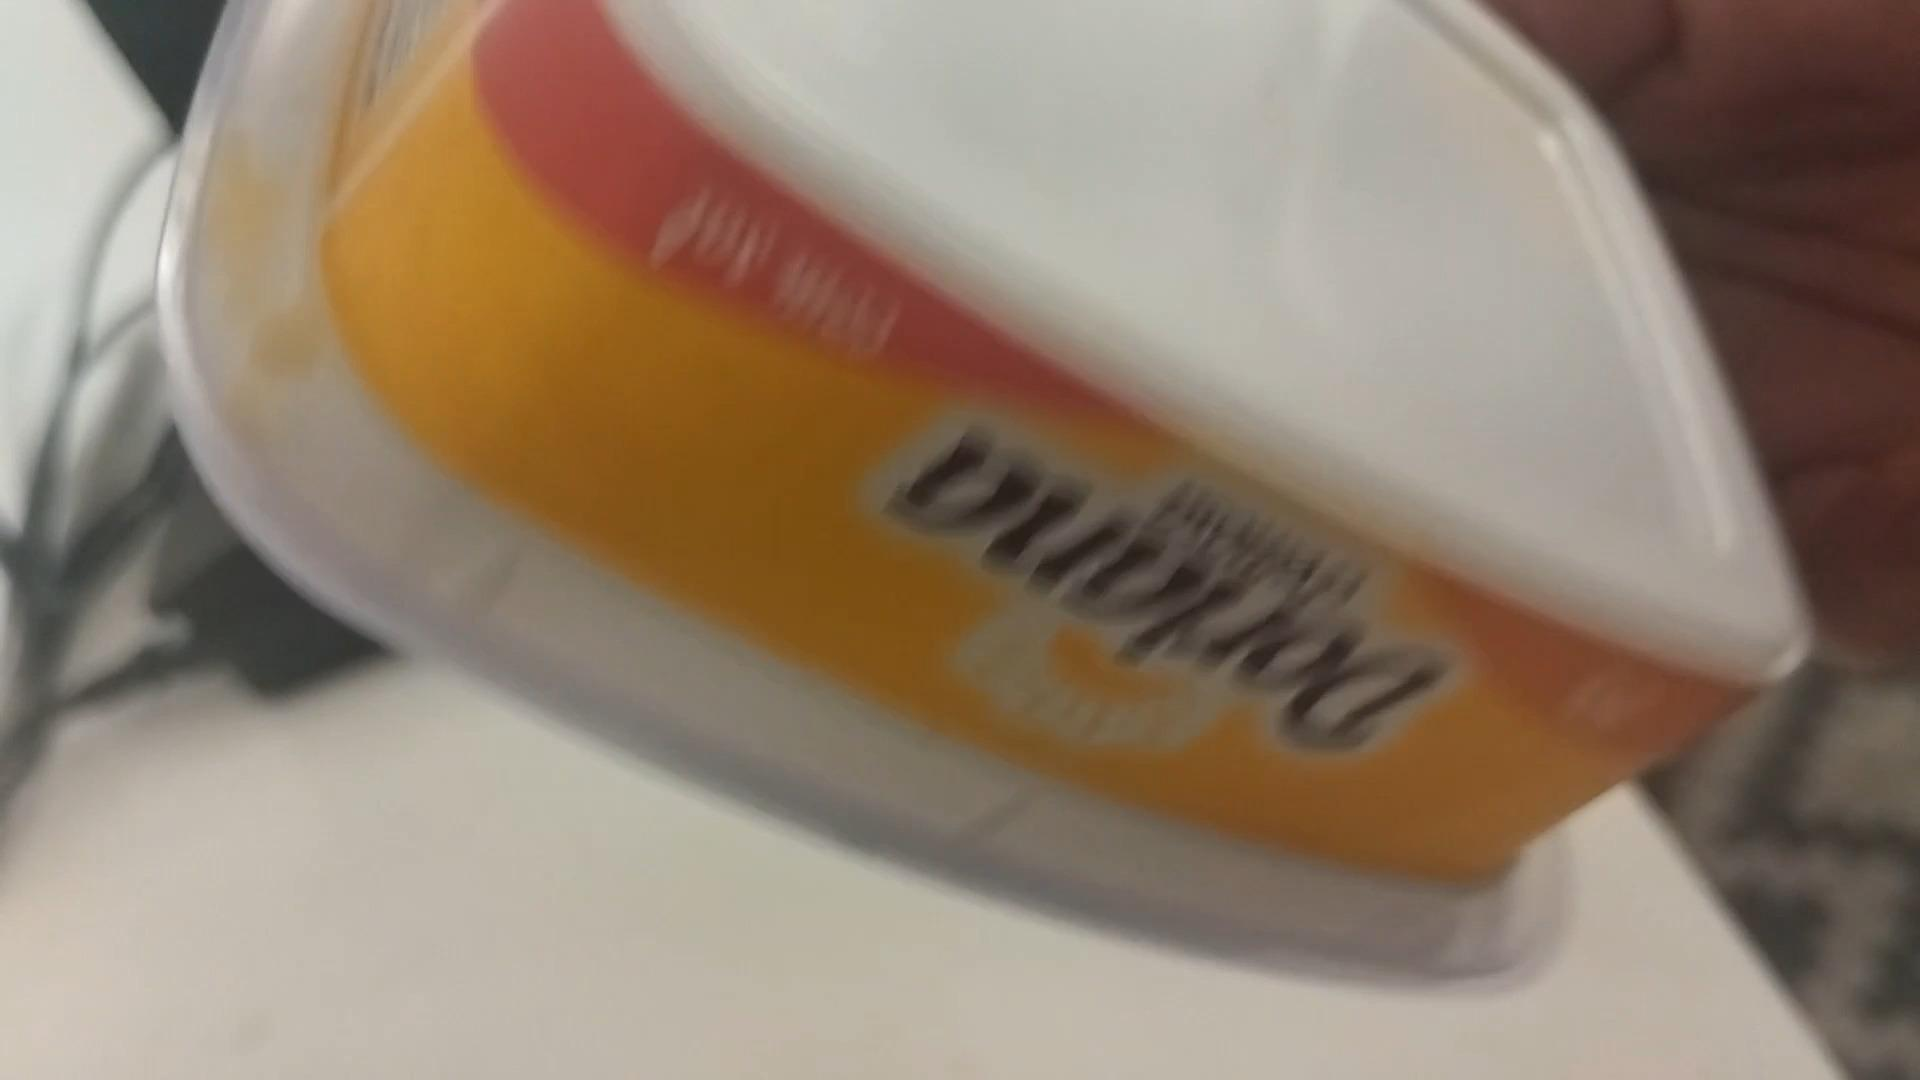butter: (131, 0, 1825, 982)
